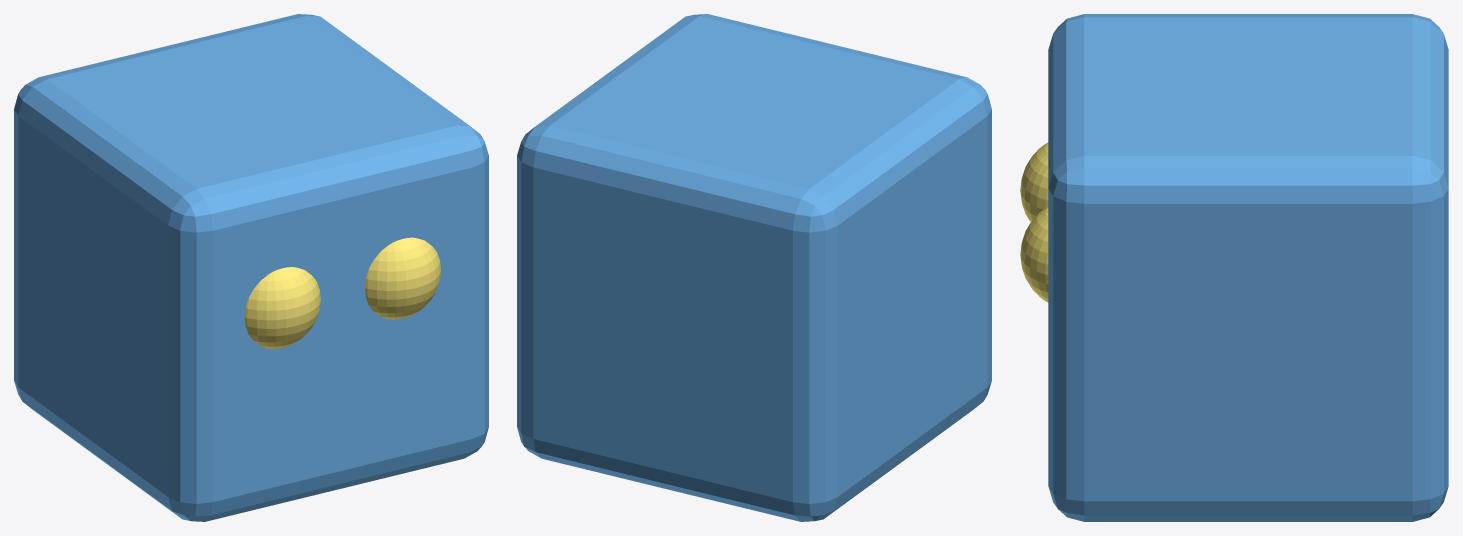
File: t2_robot.glb
3 views of the same model, side by side, from view 1: azimuth 30°, elevation 25°; view 2: azimuth 150°, elevation 25°; view 3: azimuth 270°, elevation 25° (orthographic). The views are drawn at different scales.
Parts seen in each view (by area): view 1: Head, Eye_R, Eye_L; view 2: Head; view 3: Head, Eye_R, Eye_L.
Part boxes in pixels (x1,y1,x2,y2): Head: (14,14,488,521); Eye_R: (364,237,440,319); Eye_L: (244,267,320,349); Head: (517,14,991,521); Head: (1048,14,1448,521); Eye_R: (1020,207,1048,302); Eye_L: (1020,142,1048,222).
Bounding box in the file's own units: 2 × 2 × 2.14.
